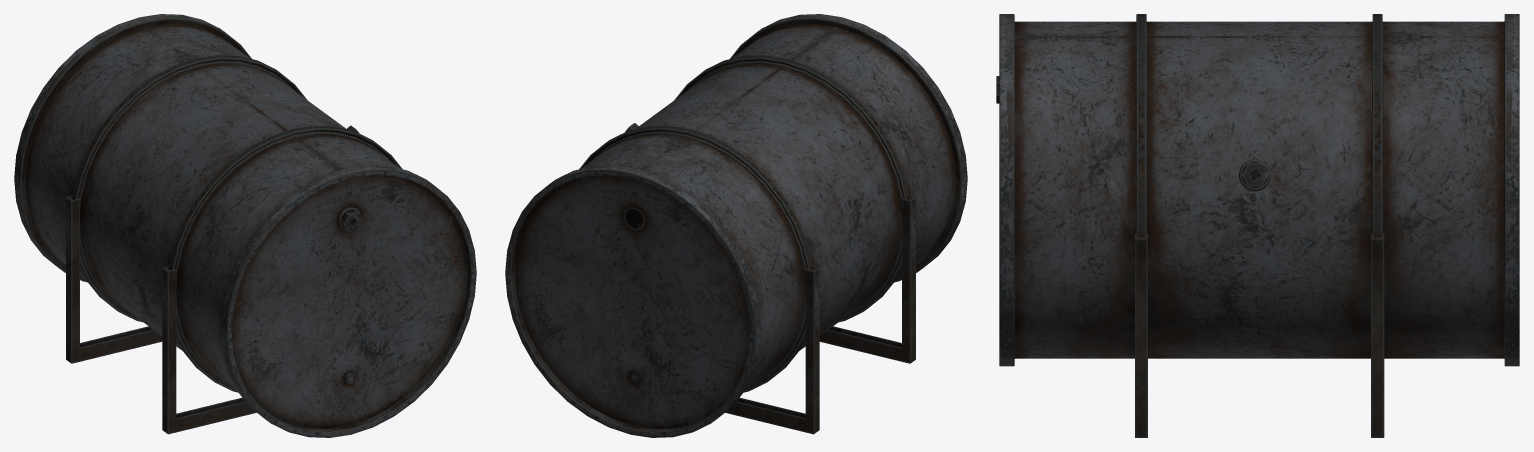
Rendered from fuel_storage.dae.
3 renders of one model, left to right at view 1: azimuth 30°, elevation 25°; view 2: azimuth 150°, elevation 25°; view 3: azimuth 270°, elevation 25°, orthographic. The views are drawn at different scales.
Parts seen in each view (by area): view 1: Mesh, Cube; view 2: Mesh, Cube; view 3: Mesh, Cube.
Part boxes in pixels (box(x1,y1,x2,y2)): Mesh: box(14, 14, 476, 437); Cube: box(66, 196, 256, 434); Mesh: box(505, 14, 967, 437); Cube: box(725, 196, 915, 434); Mesh: box(996, 14, 1519, 366); Cube: box(1135, 233, 1384, 437).
Bounding box in the file's own units: 2.88 × 2.9 × 4.15.
